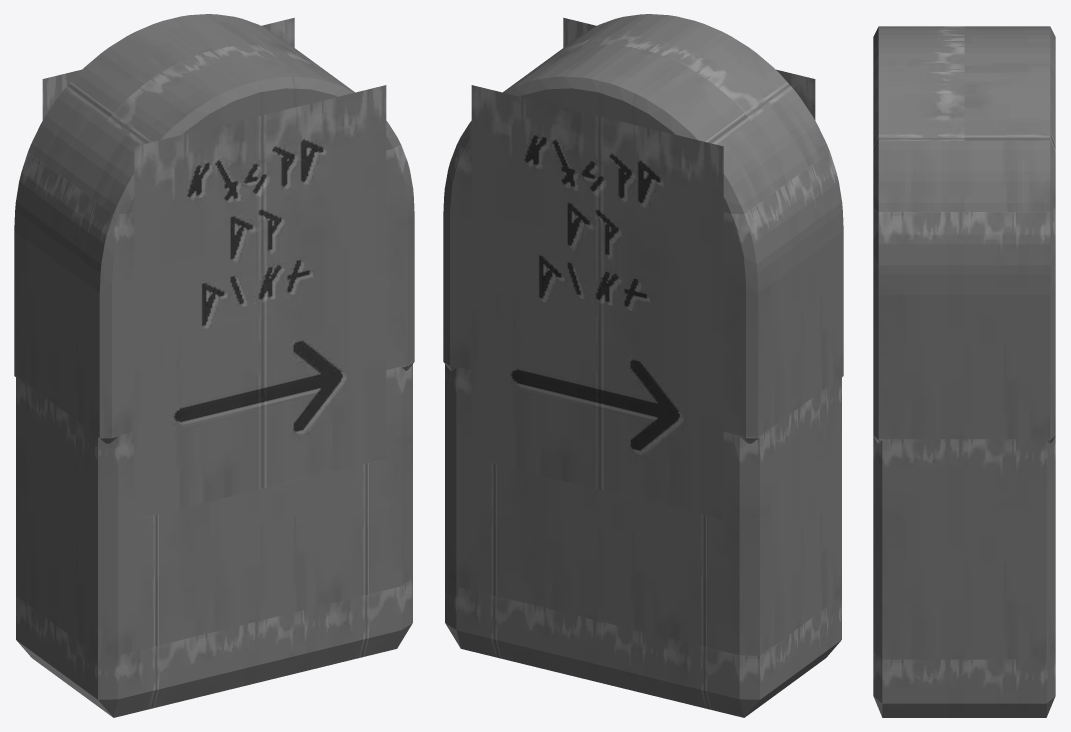
File: sign3.glb
3 renders of one model, left to right at view 1: azimuth 30°, elevation 25°; view 2: azimuth 150°, elevation 25°; view 3: azimuth 270°, elevation 25°, orthographic.
Parts seen in each view (by area): view 1: box; view 2: box; view 3: box.
Boxes of the visible parts, x1,y1,x2,y2 form: box: [14, 14, 414, 717]; box: [443, 14, 843, 717]; box: [873, 26, 1055, 717].
Bounding box in the file's own units: 0.5484 × 1 × 0.2771.
Materials: 3 (3 with a texture image).
